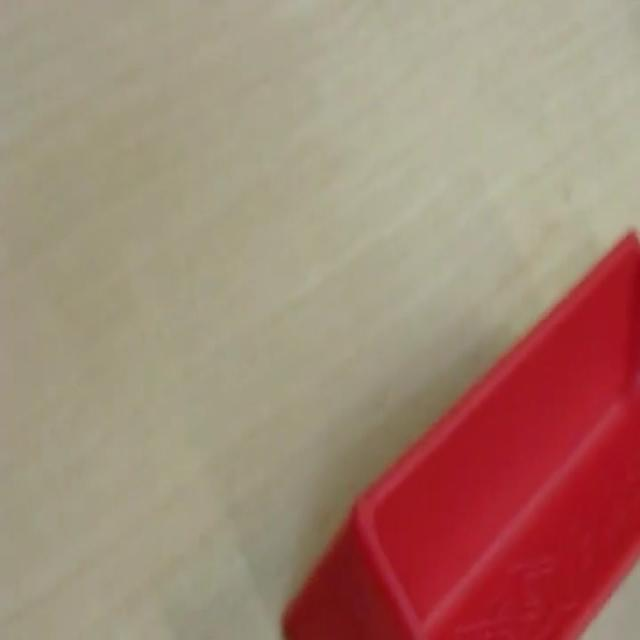red_block: (280, 225, 638, 638)
